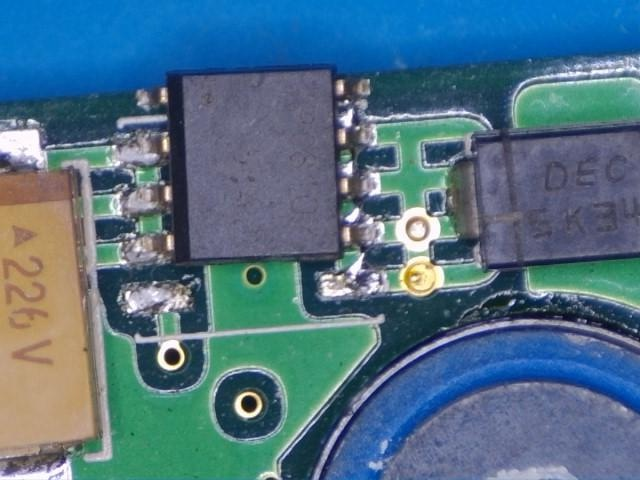pcb_defect: (112, 68, 385, 267), (317, 98, 386, 301)
